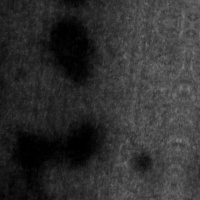patches: (8, 128, 93, 198), (42, 13, 100, 84), (57, 116, 110, 172), (128, 150, 156, 177)
